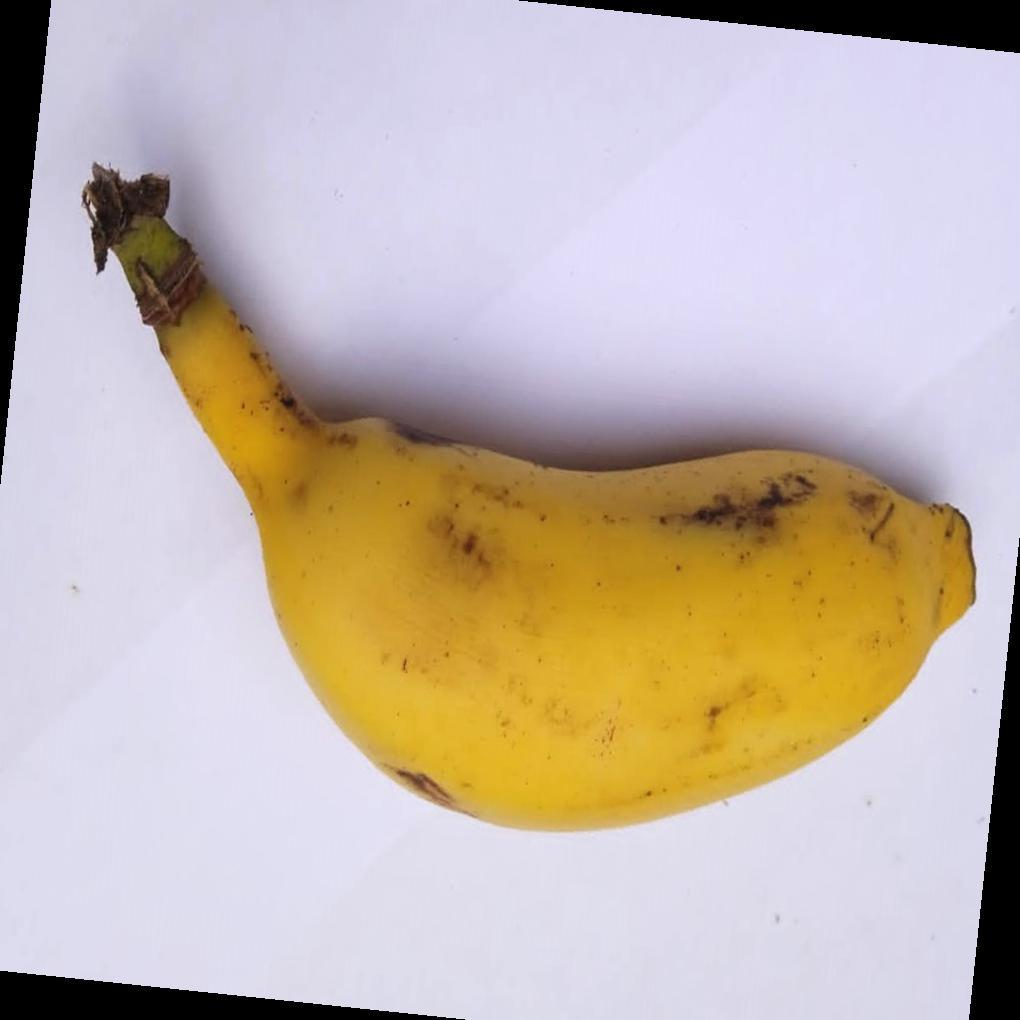Banana Ripe: (112, 149, 1003, 859)
